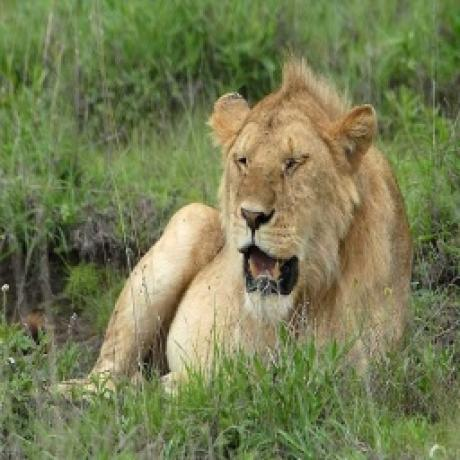Lion: (66, 55, 414, 398)
